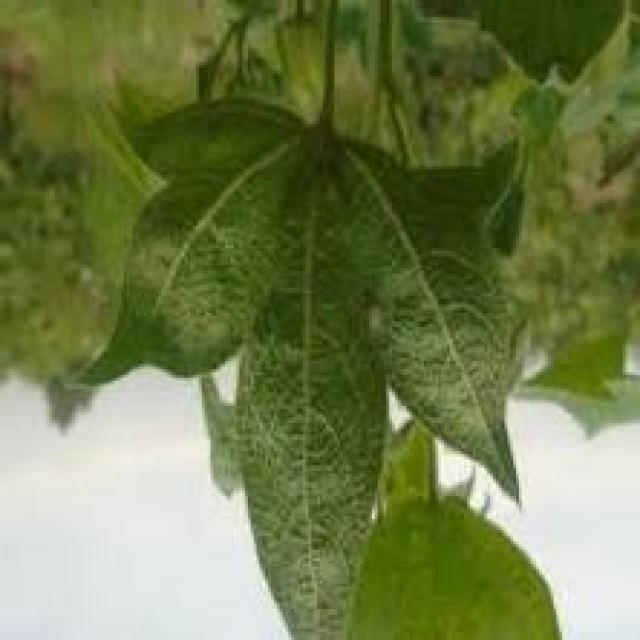Leaf Curl Virus: (191, 155, 484, 509)
